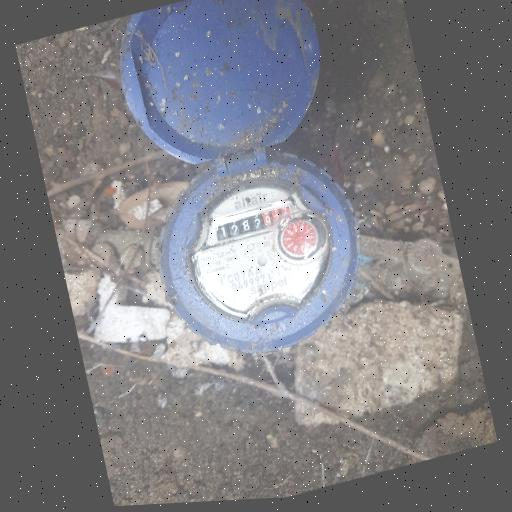1: (217, 223, 228, 239)
2: (228, 219, 240, 237), (251, 213, 263, 231), (272, 208, 282, 225)
4: (280, 206, 290, 219)
8: (240, 216, 252, 234)
9: (262, 211, 273, 227)
border_water_meter_number: (201, 196, 308, 246)
